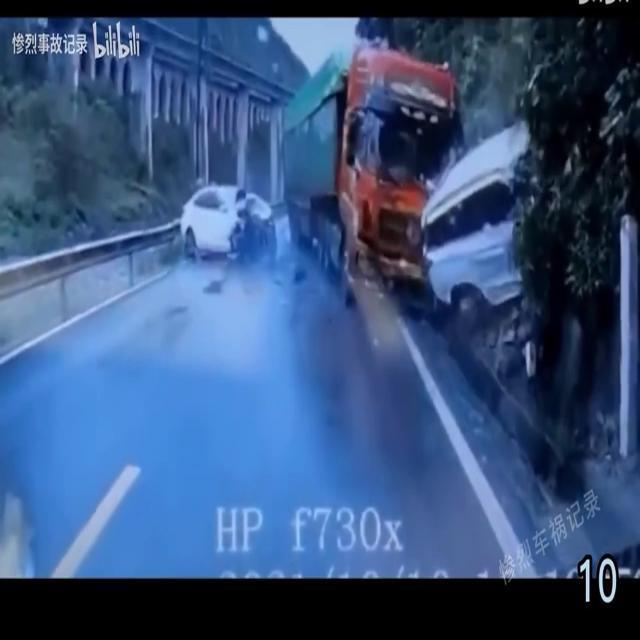accident: (178, 45, 560, 331), (277, 45, 557, 331), (180, 46, 460, 294)
